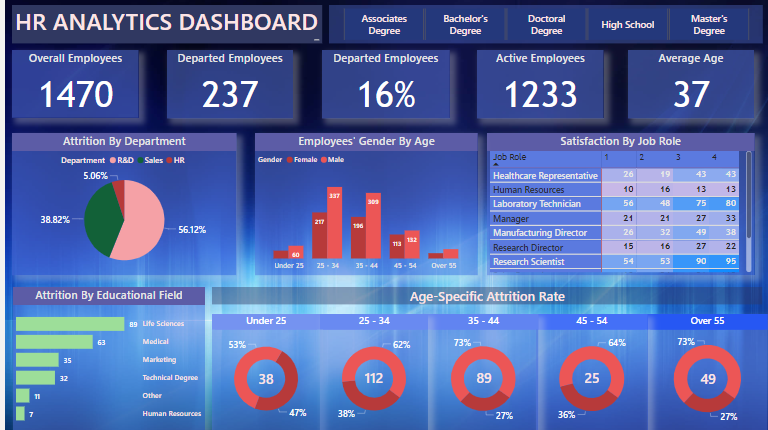

This screenshot's page, from the dashboard's own definition file:
{"tool":"powerbi","page":{"name":"Page 1","canvas":[1280,720],"ordinal":0},"visuals":[{"type":"card","title":"Overall Employees","fields":{"Values":["Sum(HR data.Employee Count)"]},"box":[20,85.7,211.4,112.9],"z":0},{"type":"card","title":"Departed Employees","fields":{"Values":["Sum(HR data.Attrition Count)"]},"box":[278.6,85.7,210,114.3],"z":1000},{"type":"card","title":"Departed Employees","fields":{"Values":["HR data.Attrition Rate"]},"box":[537.1,85.7,212.9,114.3],"z":2000},{"type":"card","title":"Active Employees","fields":{"Values":["HR data.Active Employees"]},"box":[795.7,85.7,211.4,114.3],"z":3000},{"type":"card","title":"Average Age ","fields":{"Values":["Avg(HR data.Age)"]},"box":[1047.1,85.7,210,114.3],"z":4000},{"type":"pieChart","title":"Attrition By Department","fields":{"Y":["Sum(HR data.Attrition Count)"],"Category":["HR data.Department"]},"box":[20,222.9,374.3,237.1],"z":5000},{"type":"pivotTable","title":"Satisfaction By Job Role","fields":{"Rows":["HR data.Job Role"],"Values":["Sum(HR data.Employee Count)"],"Columns":["HR data.Job Satisfaction"]},"box":[811.4,222.9,445.7,237.1],"z":6000},{"type":"clusteredBarChart","title":"Attrition By Educational Field","fields":{"Y":["Sum(HR data.Attrition Count)"],"Category":["HR data.Education Field"]},"box":[21.4,480,320,240],"z":7000},{"type":"clusteredColumnChart","title":"Employees'' Gender By Age","fields":{"Y":["Sum(HR data.Employee Count)"],"Category":["HR data.CF_age band"],"Series":["HR data.Gender"]},"box":[424.3,222.9,371.4,237.1],"z":8000},{"type":"donutChart","title":"Under 25","fields":{"Y":["Sum(HR data.Attrition Count)"],"Category":["HR data.Gender"],"Series":["HR data.CF_age band"]},"box":[352.9,525.7,180,194.3],"z":9000},{"type":"donutChart","title":"Over 55","fields":{"Y":["Sum(HR data.Attrition Count)"],"Category":["HR data.Gender"],"Series":["HR data.CF_age band"]},"box":[1078.6,525.7,201.4,194.3],"z":10000},{"type":"donutChart","title":"45 - 54","fields":{"Y":["Sum(HR data.Attrition Count)"],"Category":["HR data.Gender"],"Series":["HR data.CF_age band"]},"box":[892.9,525.7,185.7,194.3],"z":11000},{"type":"donutChart","title":"35 - 44","fields":{"Y":["Sum(HR data.Attrition Count)"],"Category":["HR data.Gender"],"Series":["HR data.CF_age band"]},"box":[712.9,525.7,184.3,194.3],"z":12000},{"type":"donutChart","title":"25 - 34","fields":{"Y":["Sum(HR data.Attrition Count)"],"Category":["HR data.Gender"],"Series":["HR data.CF_age band"]},"box":[532.9,525.7,180,194.3],"z":13000},{"type":"textbox","title":"Age-Specific Attrition Rate","box":[352.9,480,917.1,28.6],"z":14000},{"type":"card","fields":{"Values":["Sum(HR data.Attrition Count)"]},"box":[421.4,612.9,42.9,41.4],"z":15000},{"type":"card","fields":{"Values":["Sum(HR data.Attrition Count)"]},"box":[964.3,611.4,42.9,41.4],"z":16000},{"type":"card","fields":{"Values":["Sum(HR data.Attrition Count)"]},"box":[784.3,611.4,42.9,41.4],"z":17000},{"type":"card","fields":{"Values":["Sum(HR data.Attrition Count)"]},"box":[601.4,611.4,42.9,41.4],"z":18000},{"type":"card","fields":{"Values":["Sum(HR data.Attrition Count)"]},"box":[1158.6,612.9,42.9,41.4],"z":19000},{"type":"textbox","title":"HR ANALYTICS DASHBOARD","box":[20,10,517.1,64.3],"z":20000},{"type":"slicer","title":"Average Age ","fields":{"Values":["HR data.Education"]},"box":[548.6,10,723,64],"z":21000}]}

Visuals, with their boxes in screenshot pixels (x1, y1, x2, y2), scaled from the page's 1280x720 canvas onto the 768x430 screenshot:
"Overall Employees" card: (12, 51, 139, 119)
"Departed Employees" card: (167, 51, 293, 119)
"Departed Employees" card: (322, 51, 450, 119)
"Active Employees" card: (477, 51, 604, 119)
"Average Age " card: (628, 51, 754, 119)
"Attrition By Department" pieChart: (12, 133, 237, 275)
"Satisfaction By Job Role" pivotTable: (487, 133, 754, 275)
"Attrition By Educational Field" clusteredBarChart: (13, 287, 205, 429)
"Employees'' Gender By Age" clusteredColumnChart: (255, 133, 477, 275)
"Under 25" donutChart: (212, 314, 320, 429)
"Over 55" donutChart: (647, 314, 767, 429)
"45 - 54" donutChart: (536, 314, 647, 429)
"35 - 44" donutChart: (428, 314, 538, 429)
"25 - 34" donutChart: (320, 314, 428, 429)
"Age-Specific Attrition Rate" textbox: (212, 287, 762, 304)
card - Sum(HR data.Attrition Count): (253, 366, 279, 391)
card - Sum(HR data.Attrition Count): (579, 365, 604, 390)
card - Sum(HR data.Attrition Count): (471, 365, 496, 390)
card - Sum(HR data.Attrition Count): (361, 365, 387, 390)
card - Sum(HR data.Attrition Count): (695, 366, 721, 391)
"HR ANALYTICS DASHBOARD" textbox: (12, 6, 322, 44)
"Average Age " slicer: (329, 6, 763, 44)
